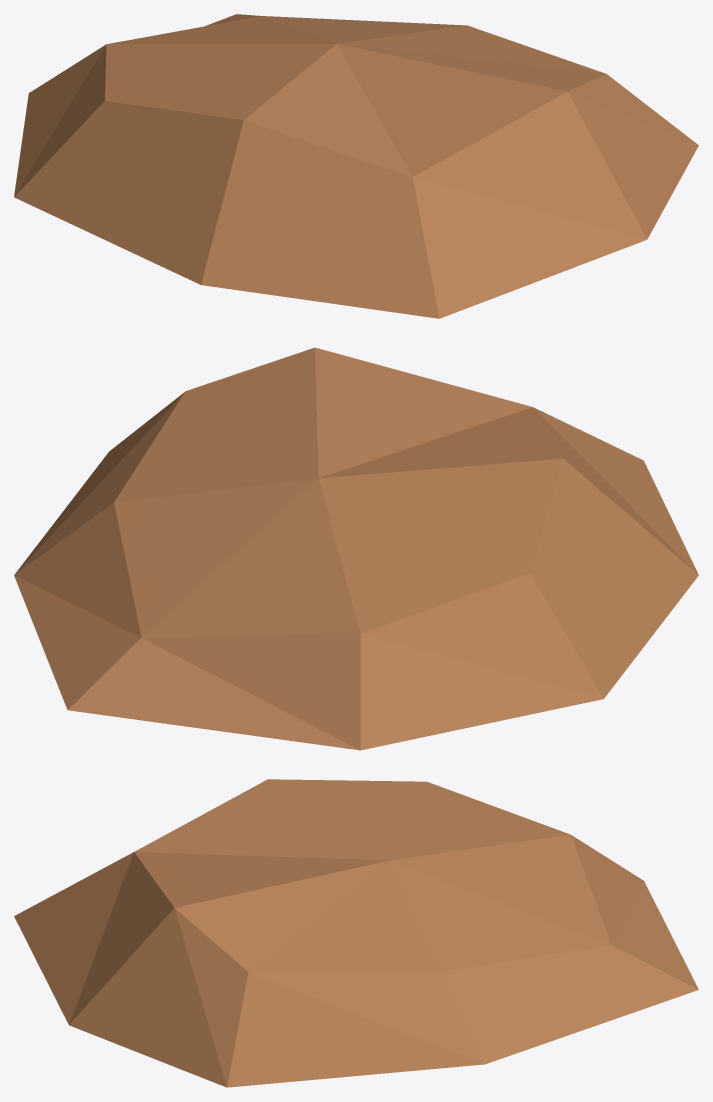
File: Stone_4.fbx
The picture shows the model from 3 angles, top to bottom: view 1: azimuth 30°, elevation 25°; view 2: azimuth 150°, elevation 25°; view 3: azimuth 270°, elevation 25°; orthographic projection. The views are drawn at different scales.
Parts seen in each view (by area): view 1: Stone_4; view 2: Stone_4; view 3: Stone_4.
Part boxes in pixels (left/top/right/bottom): Stone_4: left=14, top=14, right=698, bottom=318; Stone_4: left=14, top=347, right=698, bottom=750; Stone_4: left=14, top=779, right=698, bottom=1087.
Size of the model in its own units: 398 by 441 by 77.25.
